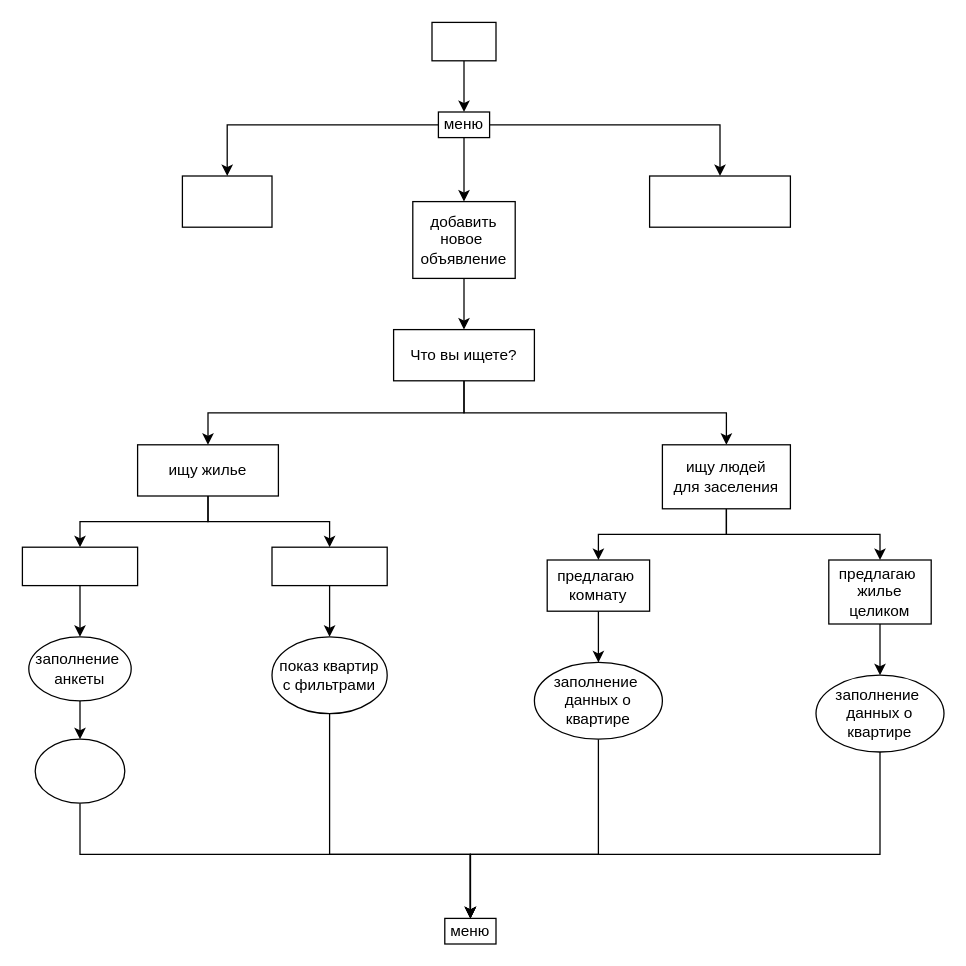
This 966x966 diagram has some shape labels left out. Each missing label, with the centre of its shape:
/start: (463,41)
Ищу жилье целиком: (329,566)
Ищу комнату: (79,566)
показ квартир: (79,770)
показать квартиры: (226,201)
просмотреть свои объявления: (719,201)
